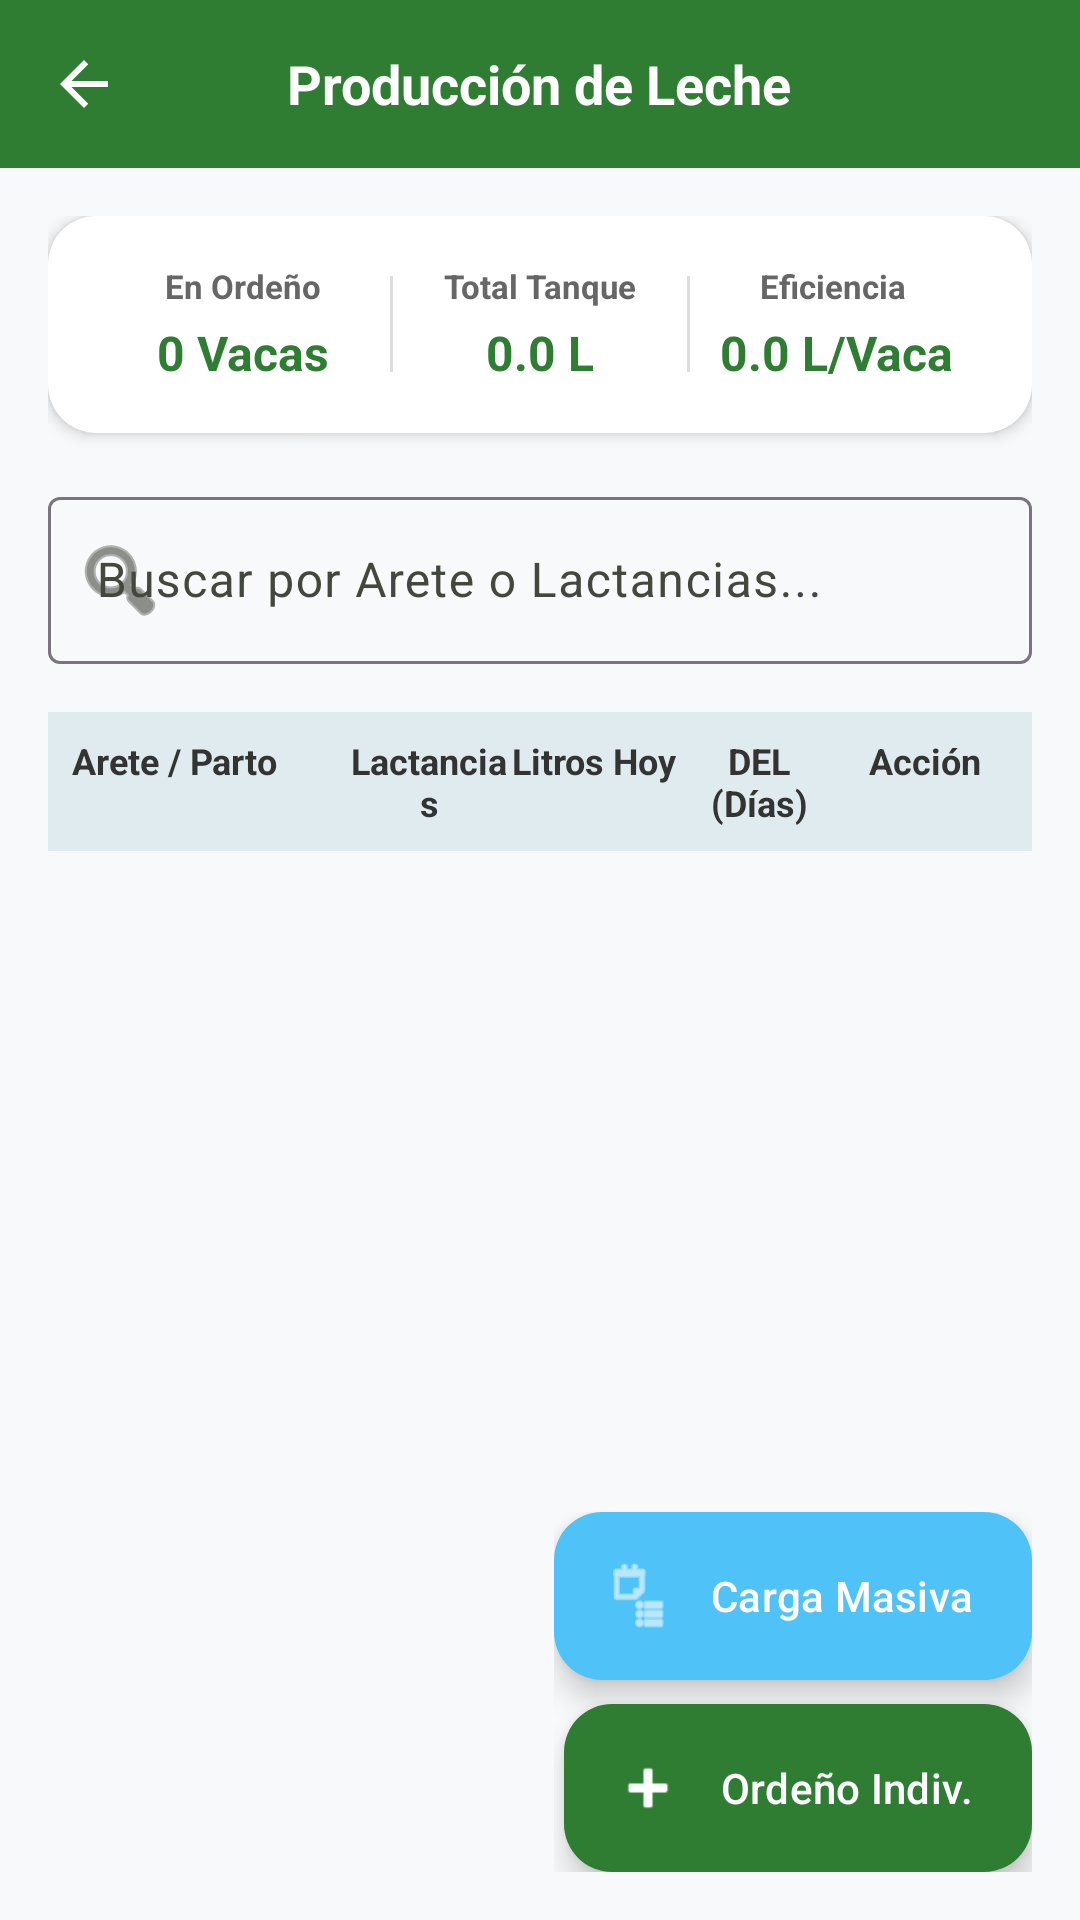

Icons on this 1080*1920 Android screen, each with its box as (x1, y1, x2, y2):
Regresar: (60, 60, 108, 108)
